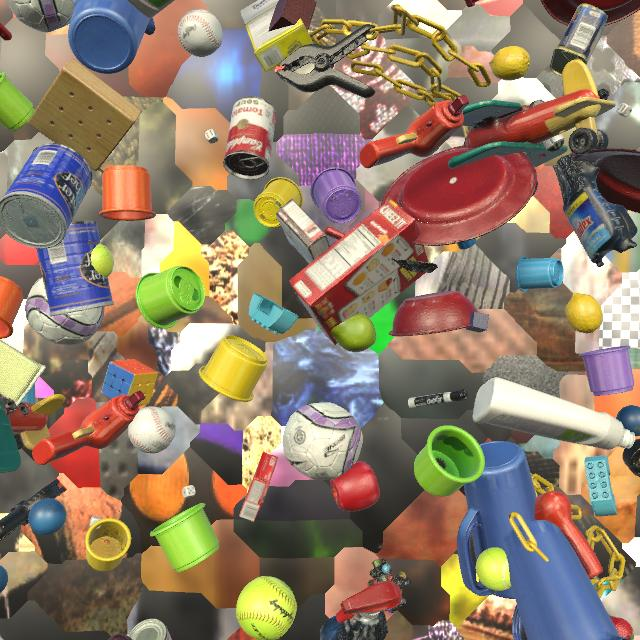ycb_002_master_chef_can: (0, 143, 93, 249), (36, 221, 114, 316)
ycb_003_cracker_box: (289, 198, 428, 345)
ycb_004_sugar_box: (240, 0, 313, 72)
ycb_005_tomato_soup_can: (223, 96, 276, 180), (129, 619, 172, 640)
ycb_008_pudding_box: (276, 198, 330, 264)
ycb_009_gelatin_box: (239, 452, 278, 522)
ycb_010_potted_meat_can: (550, 3, 608, 76)
ycb_012_strawberry: (610, 616, 634, 640)
ycb_013_apple: (330, 461, 380, 512)
ycb_014_lemon: (565, 292, 603, 333), (489, 46, 530, 80)
ycb_016_pear: (330, 313, 376, 352)
ycb_018_plum: (108, 634, 132, 640)
